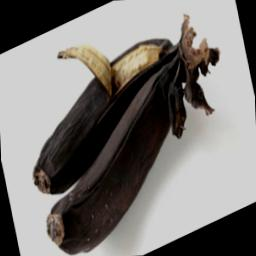Banana Rotten: (16, 33, 255, 256)
